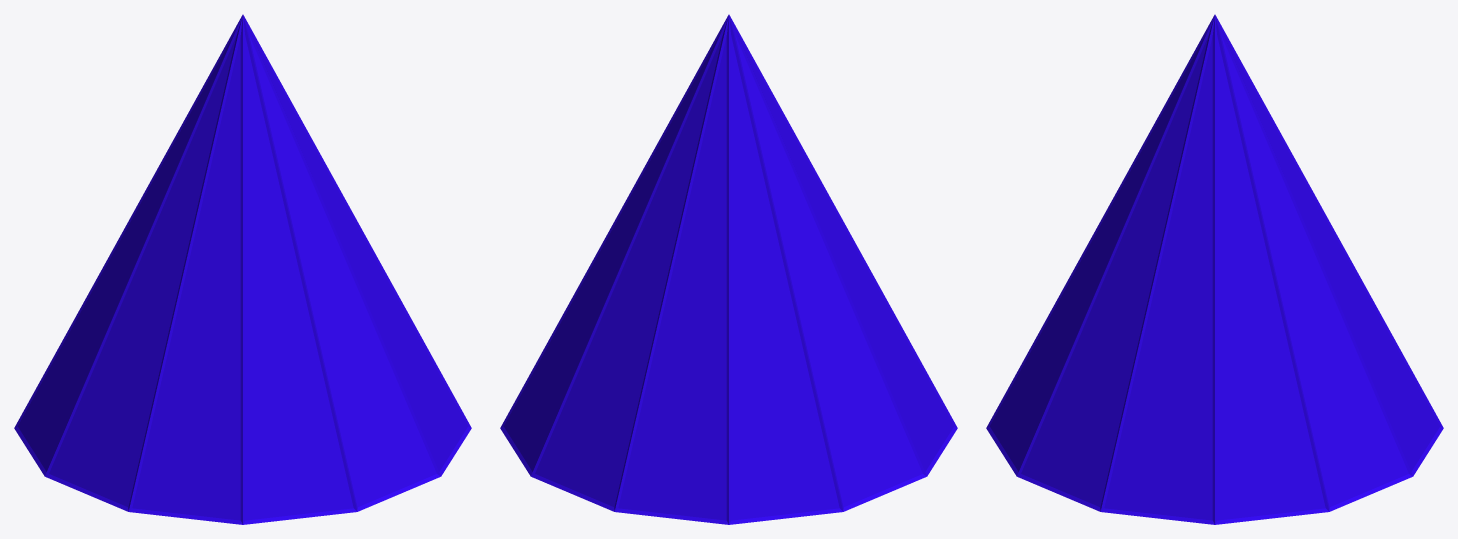
3 renders of one model, left to right at view 1: azimuth 30°, elevation 25°; view 2: azimuth 150°, elevation 25°; view 3: azimuth 270°, elevation 25°, orthographic.
Parts seen in each view (by area): view 1: Cone.001; view 2: Cone.001; view 3: Cone.001.
Part boxes in pixels (x1,y1,x2,y2): Cone.001: (14,14,471,524); Cone.001: (500,14,957,524); Cone.001: (986,14,1443,524).
Size of the model in its own units: 2.02 by 2.01 by 2.02.
